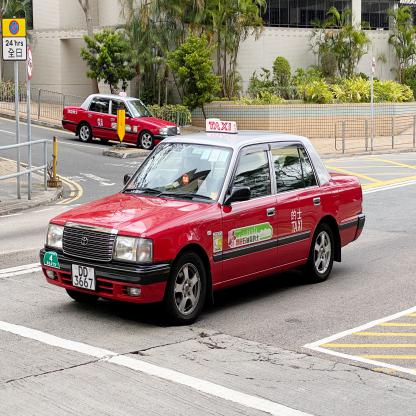taxi: (38, 117, 370, 329)
